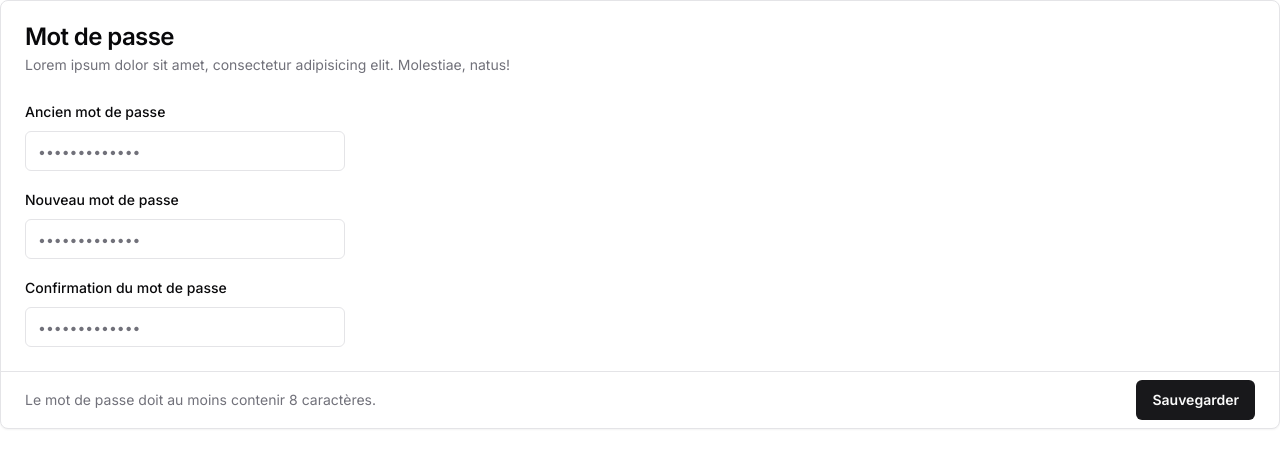
Scenario: <AccountEditPassword /> › should not submit the form if password doesnt match
Type "secret" into the password field with placeholder "•••••••••••••" at (185, 151), box [25,131,345,171]
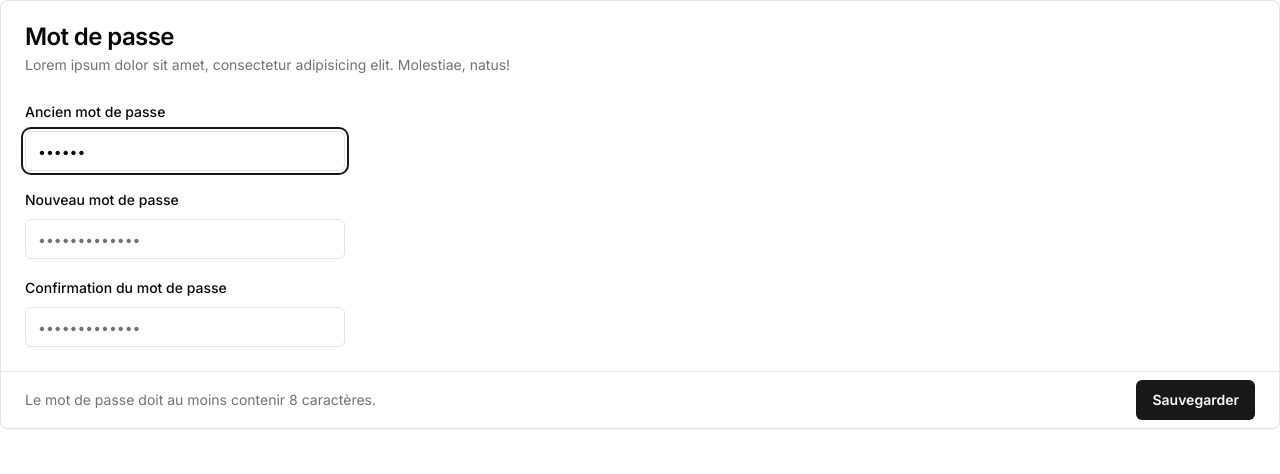
Type "secretpassword" into the password field with placeholder "•••••••••••••" at (185, 239), box [25,219,345,259]
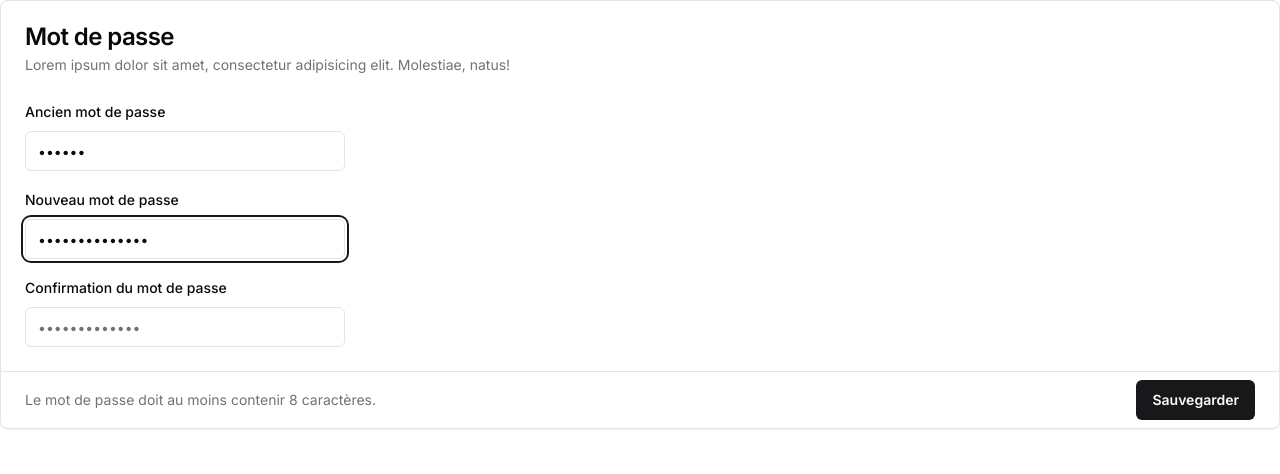
Type "notamatchingpassword" into the password field with placeholder "•••••••••••••" at (185, 327), box [25,307,345,347]
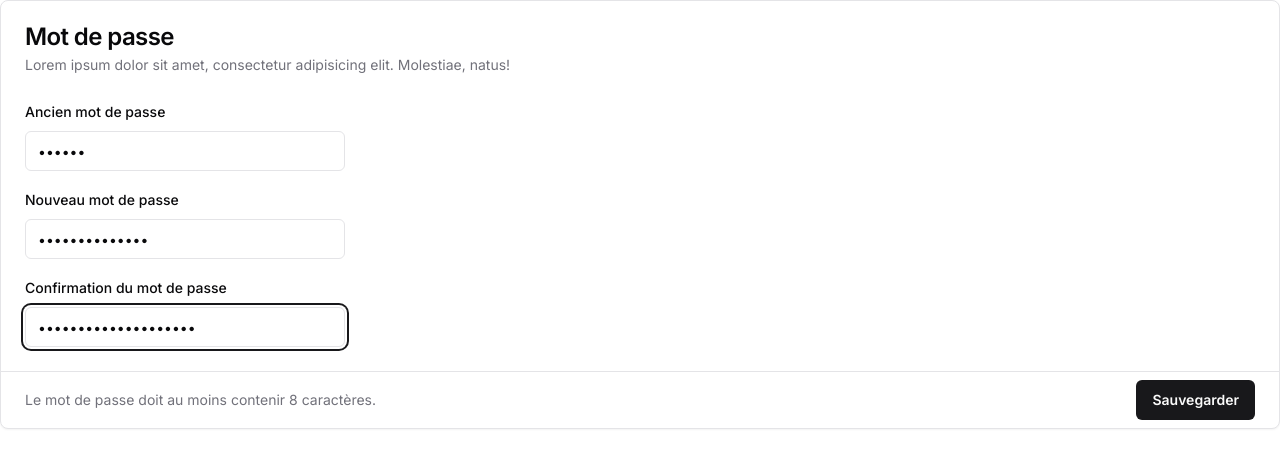
Click the button at (1196, 400), box [1136,380,1255,420]
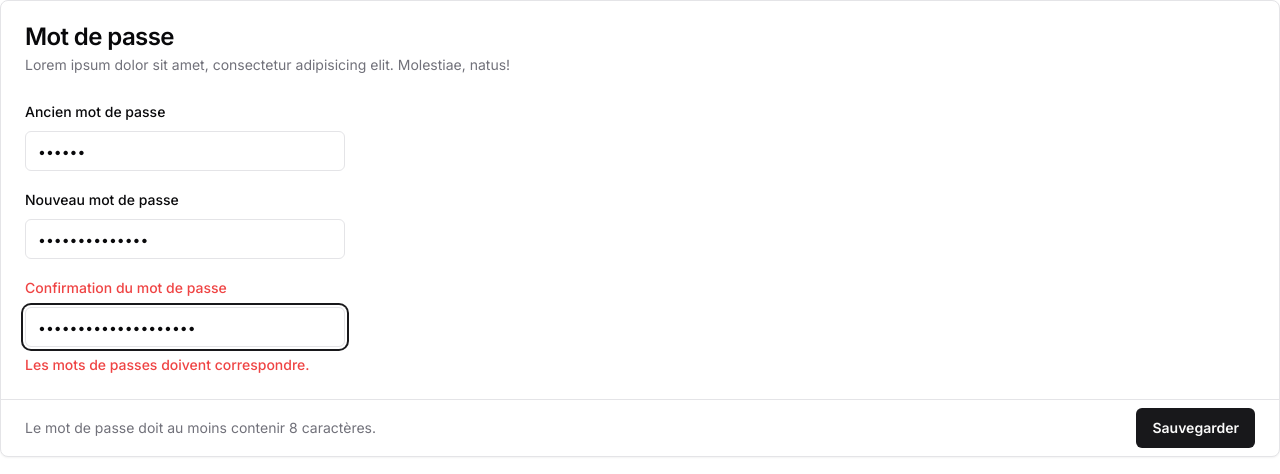
Result: the text "Les mots de passes doivent correspondre." is shown at [25,356,310,373]
